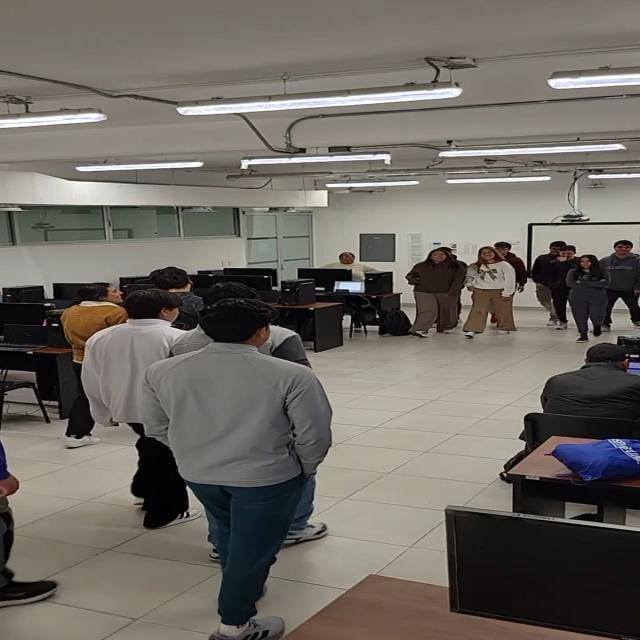Persona: (152, 299, 336, 640), (80, 288, 194, 530), (60, 277, 120, 438), (407, 245, 465, 339), (564, 250, 610, 344), (471, 245, 514, 332), (602, 238, 640, 332), (544, 241, 575, 330)
